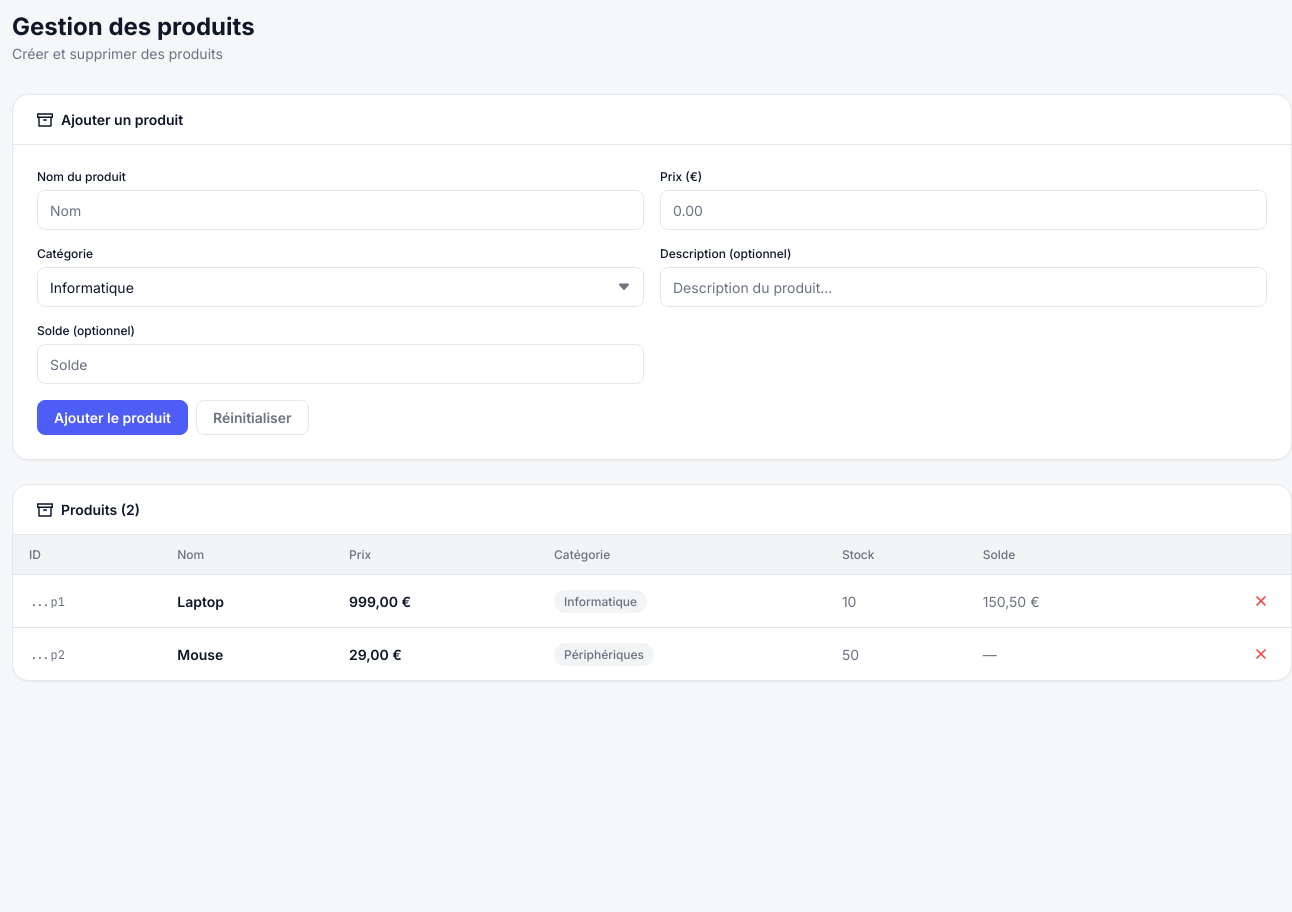
Test: AdminProductsPage › creates a product when form is submitted
Expected: the text "Laptop" is shown, x1=161 y1=574 x2=333 y2=628
Type "Keyboard" into the field with placeholder "Nom" at {"x": 340, "y": 210}, box x1=37 y1=190 x2=644 y2=230
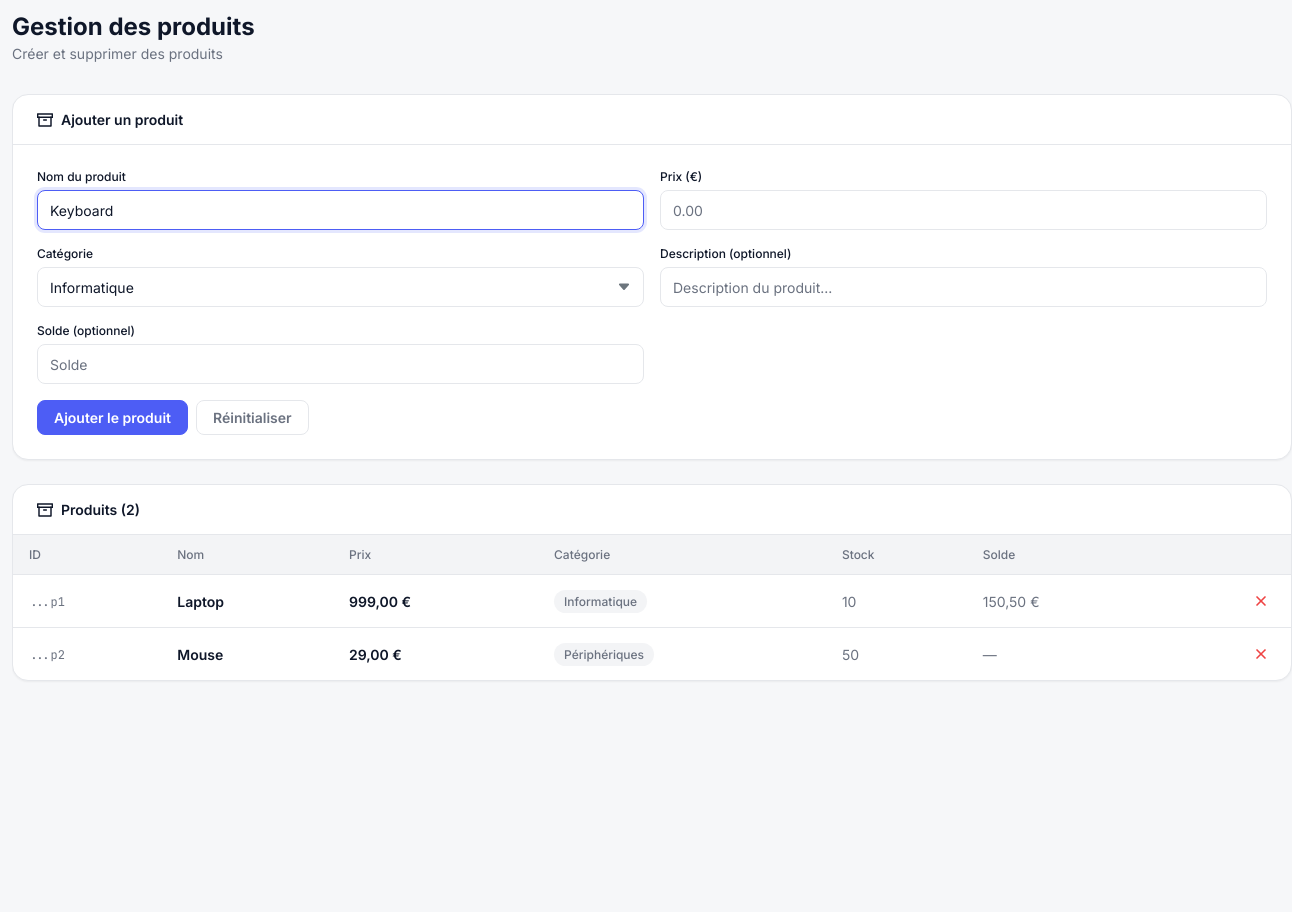
Type "79" into the number field with placeholder "0.00" at {"x": 964, "y": 210}, box x1=660 y1=190 x2=1267 y2=230
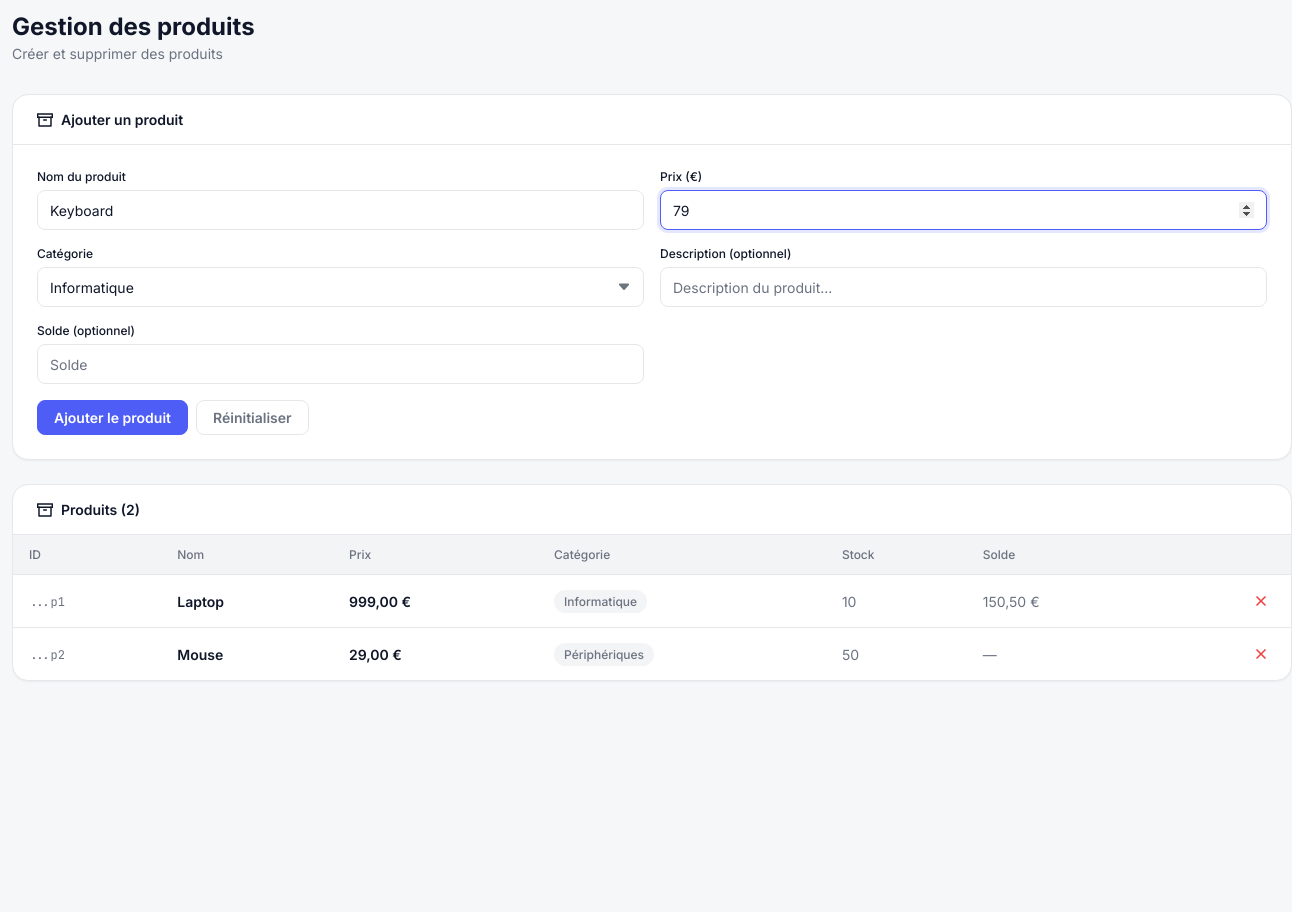
Type "42.5" into the number field with placeholder "Solde" at {"x": 340, "y": 364}, box x1=37 y1=344 x2=644 y2=384
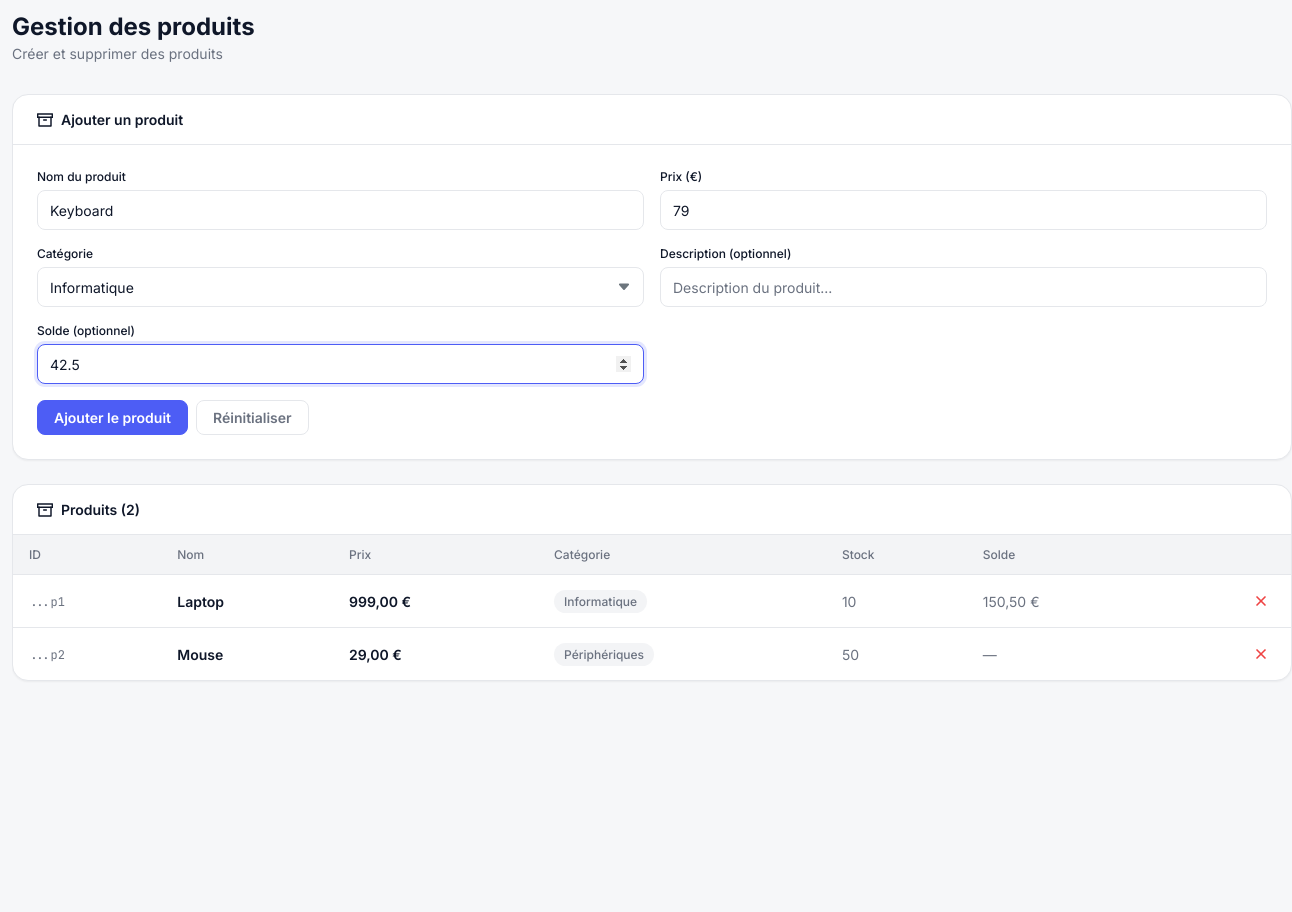
Click the button "Ajouter le produit" at {"x": 112, "y": 418}, box x1=37 y1=400 x2=188 y2=435
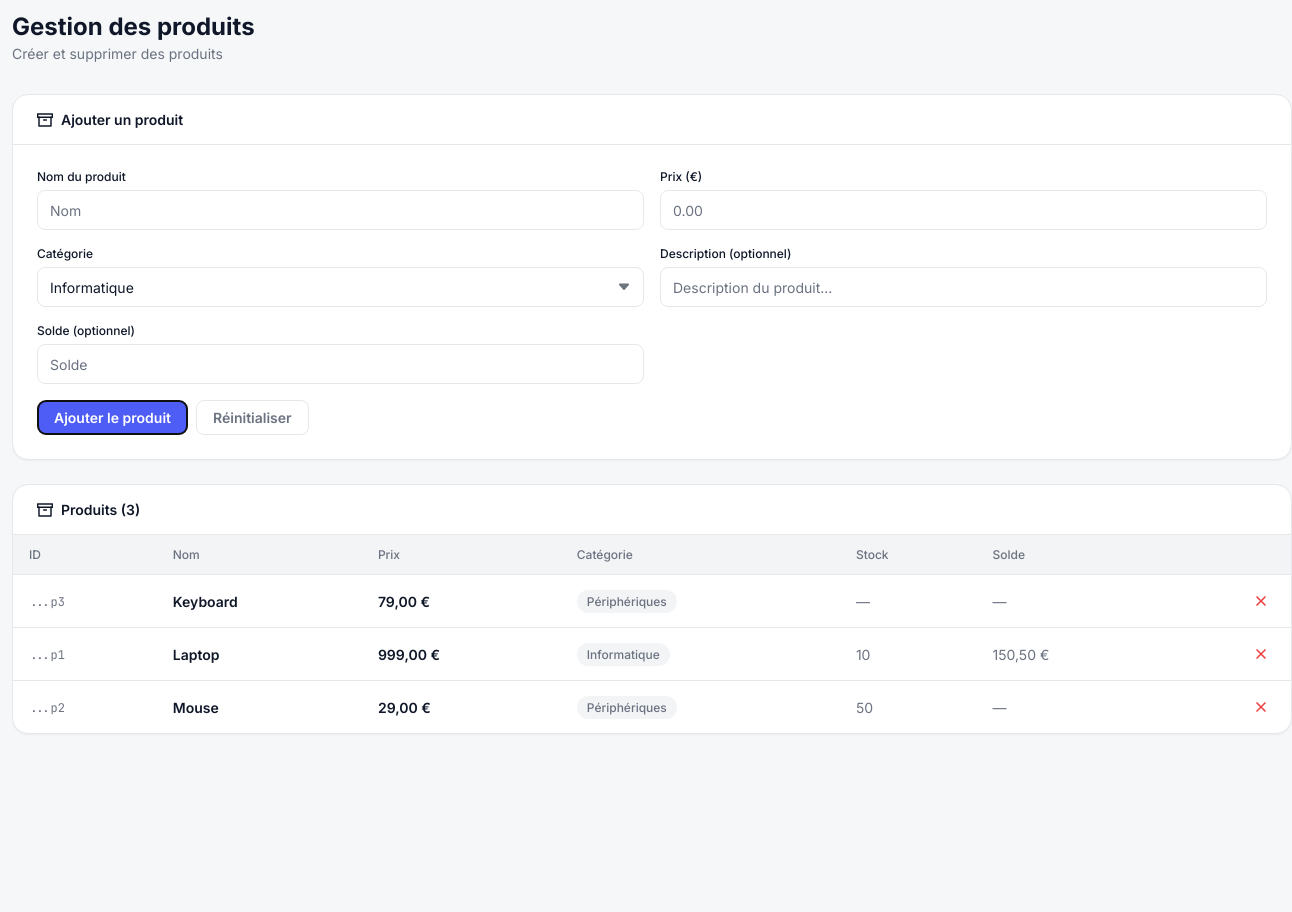
Expected: the text "Keyboard" is shown, x1=157 y1=574 x2=362 y2=628
